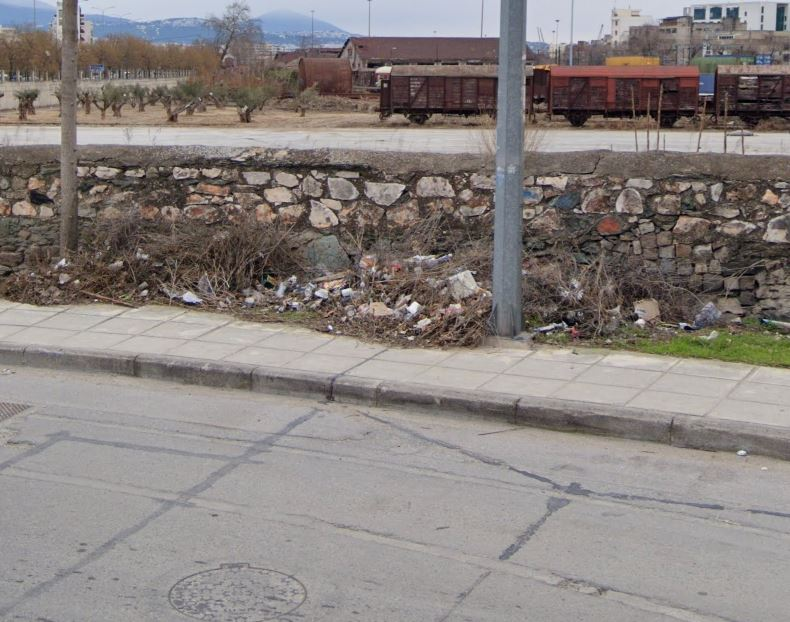trash: (196, 234, 509, 352), (611, 284, 749, 336), (534, 315, 589, 353)
